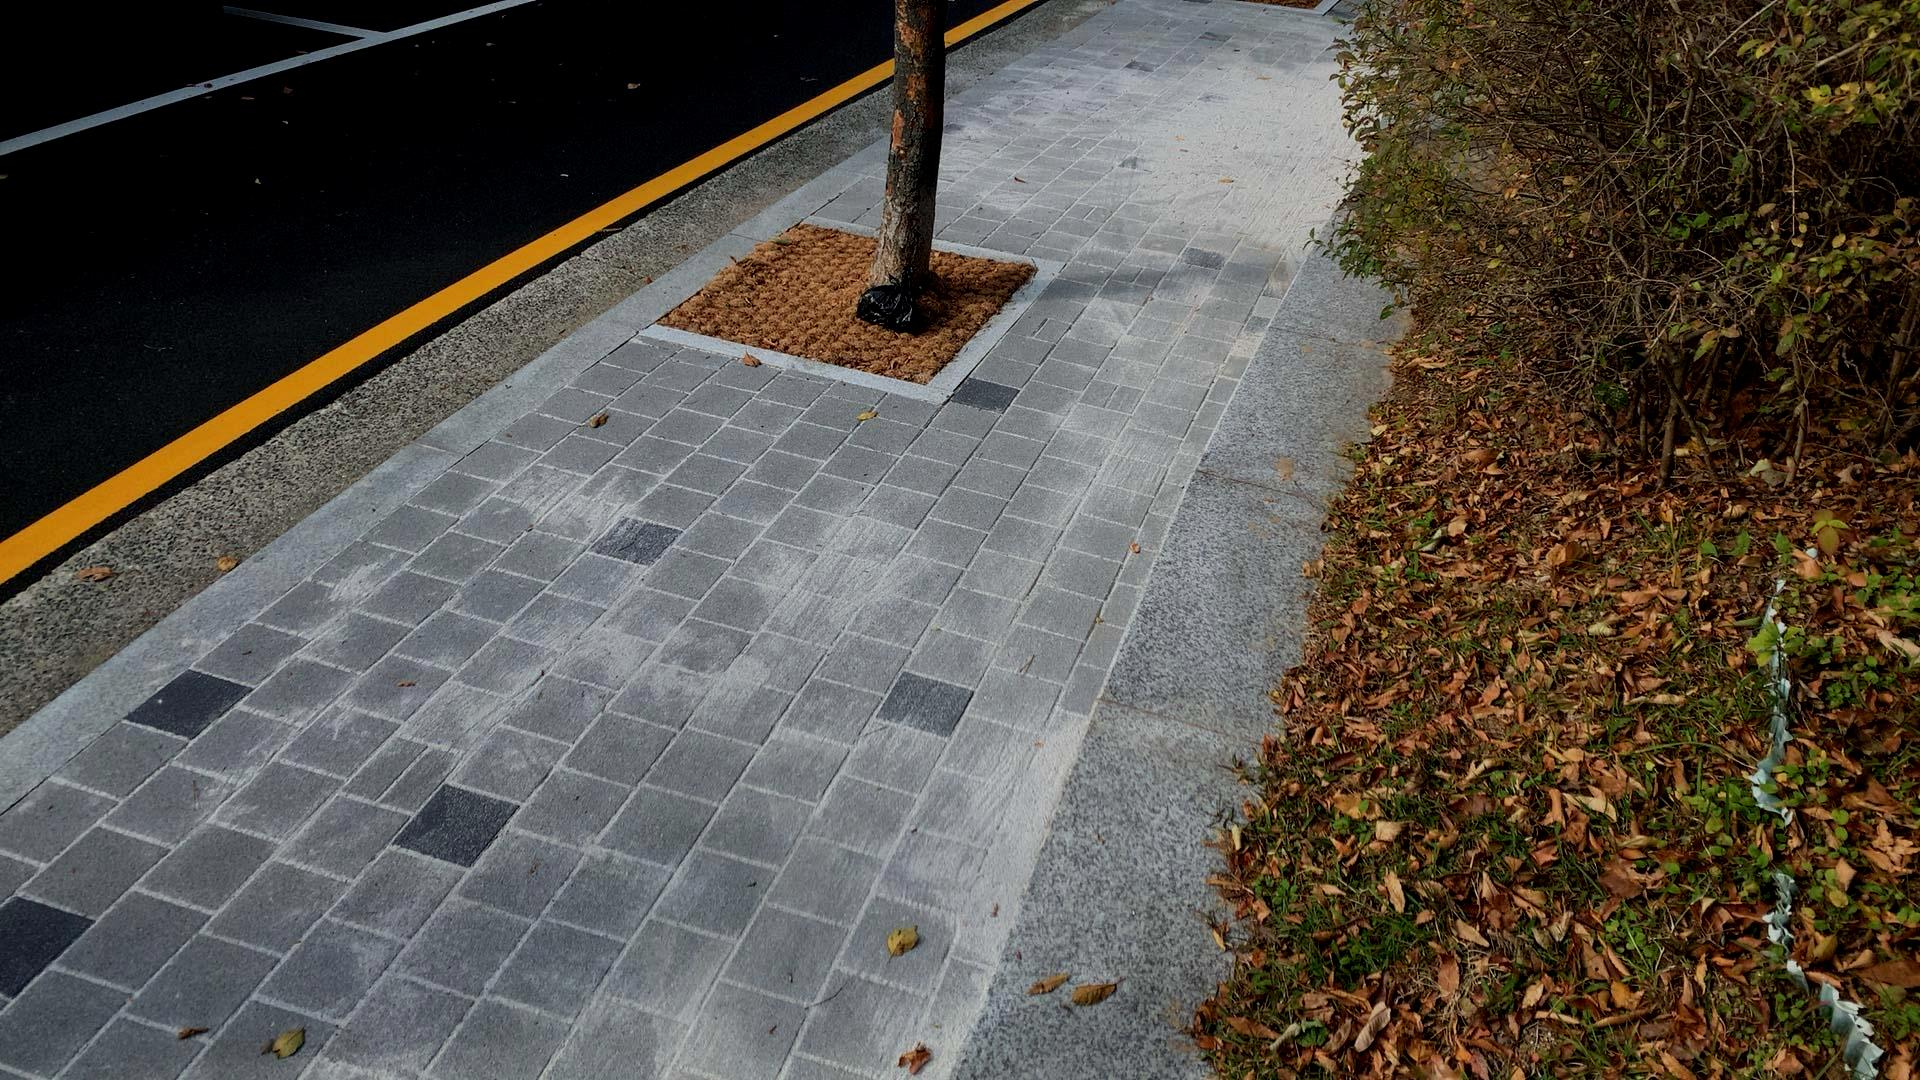black_bag: (847, 266, 931, 336)
